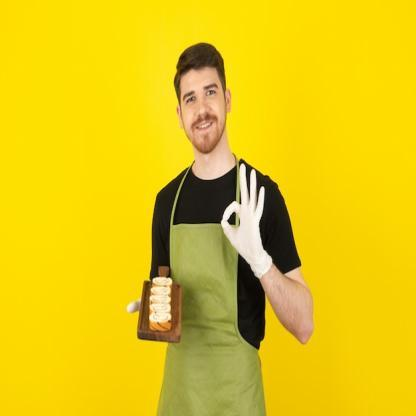ok: (221, 162, 266, 266)
